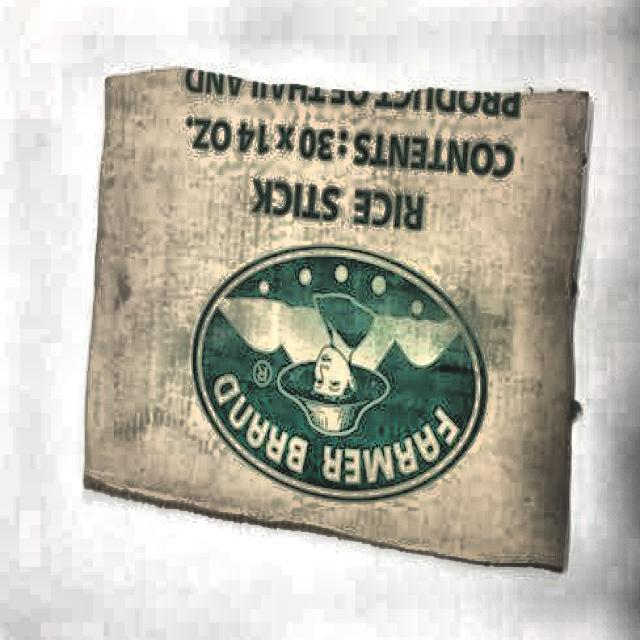cardboard: (81, 63, 590, 570)
